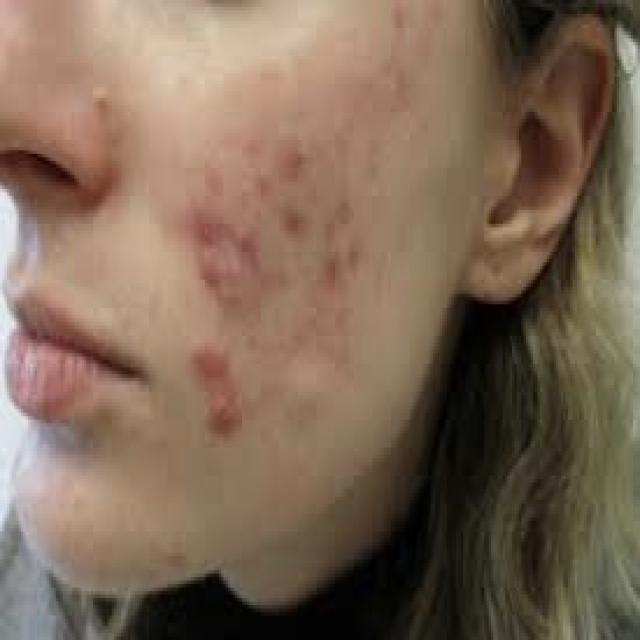nodule: (190, 336, 232, 379), (208, 395, 242, 435), (201, 252, 231, 286)
